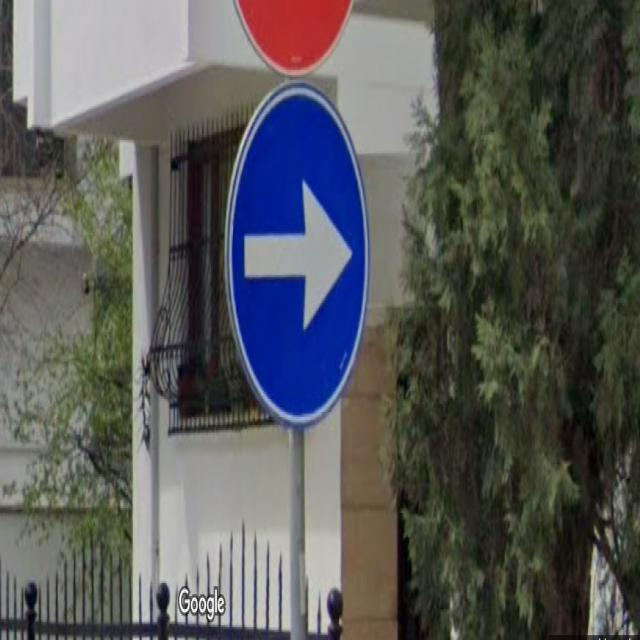Turn Right: (221, 78, 365, 430)
